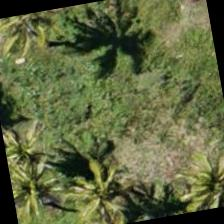Kelapa_Sawit: (55, 144, 158, 223), (0, 105, 79, 206), (4, 137, 83, 223), (0, 5, 79, 70), (162, 144, 223, 216)
